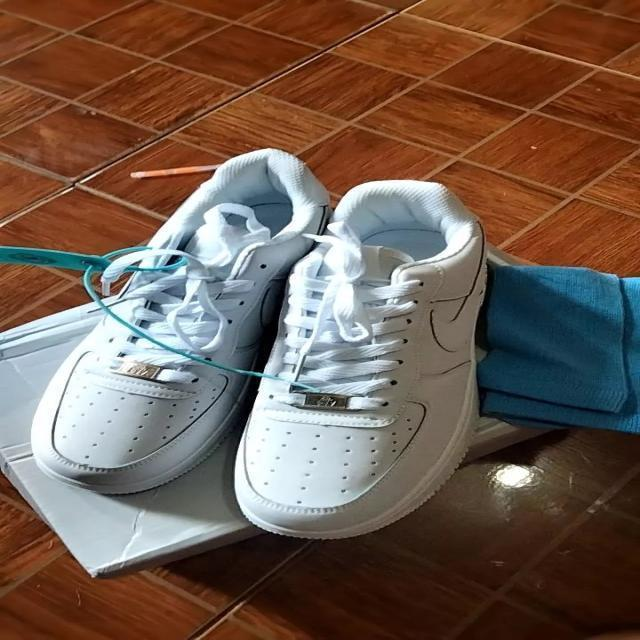nike fake air force: (231, 178, 528, 538), (27, 145, 329, 495)
